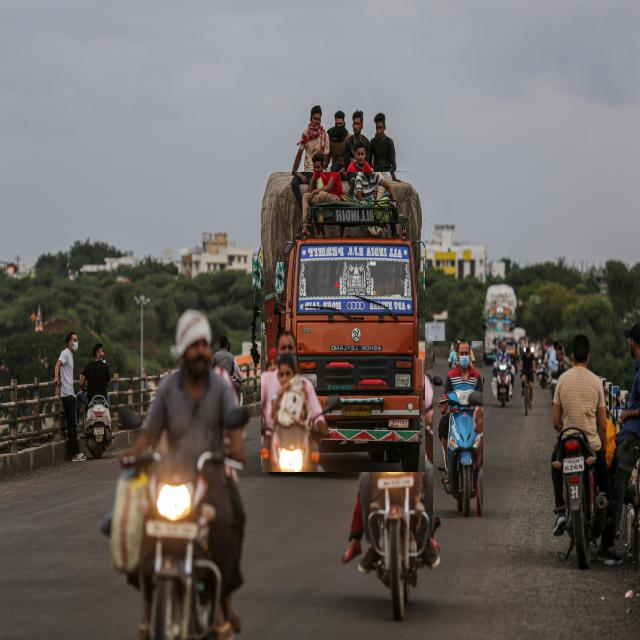motorcycle: (111, 309, 249, 639), (342, 330, 442, 620), (551, 335, 621, 568), (434, 341, 483, 517), (76, 343, 112, 459)
truck: (261, 173, 425, 472)
